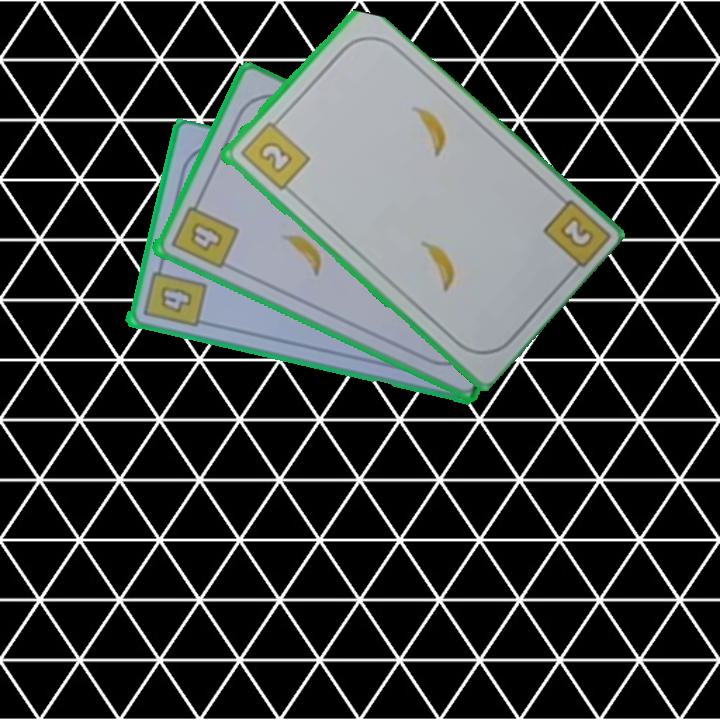2b: (236, 113, 312, 193), (555, 212, 596, 252)
4b: (166, 194, 241, 272), (139, 259, 208, 330)
